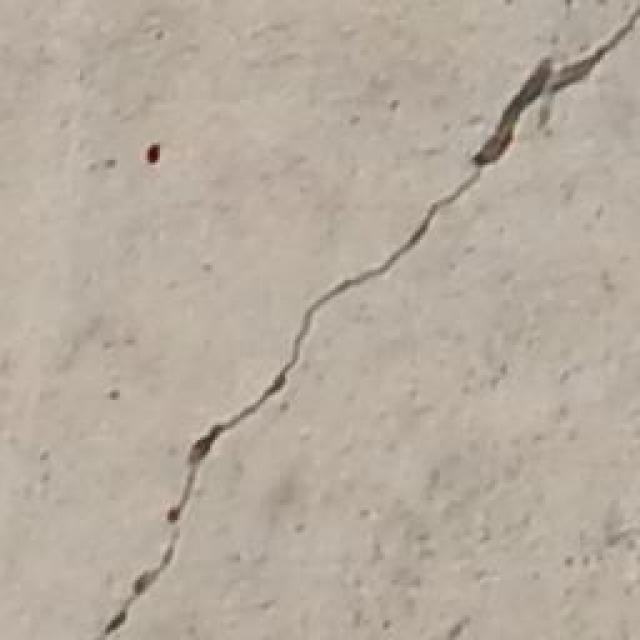concrete-crack: (168, 2, 640, 522), (108, 538, 178, 635)
